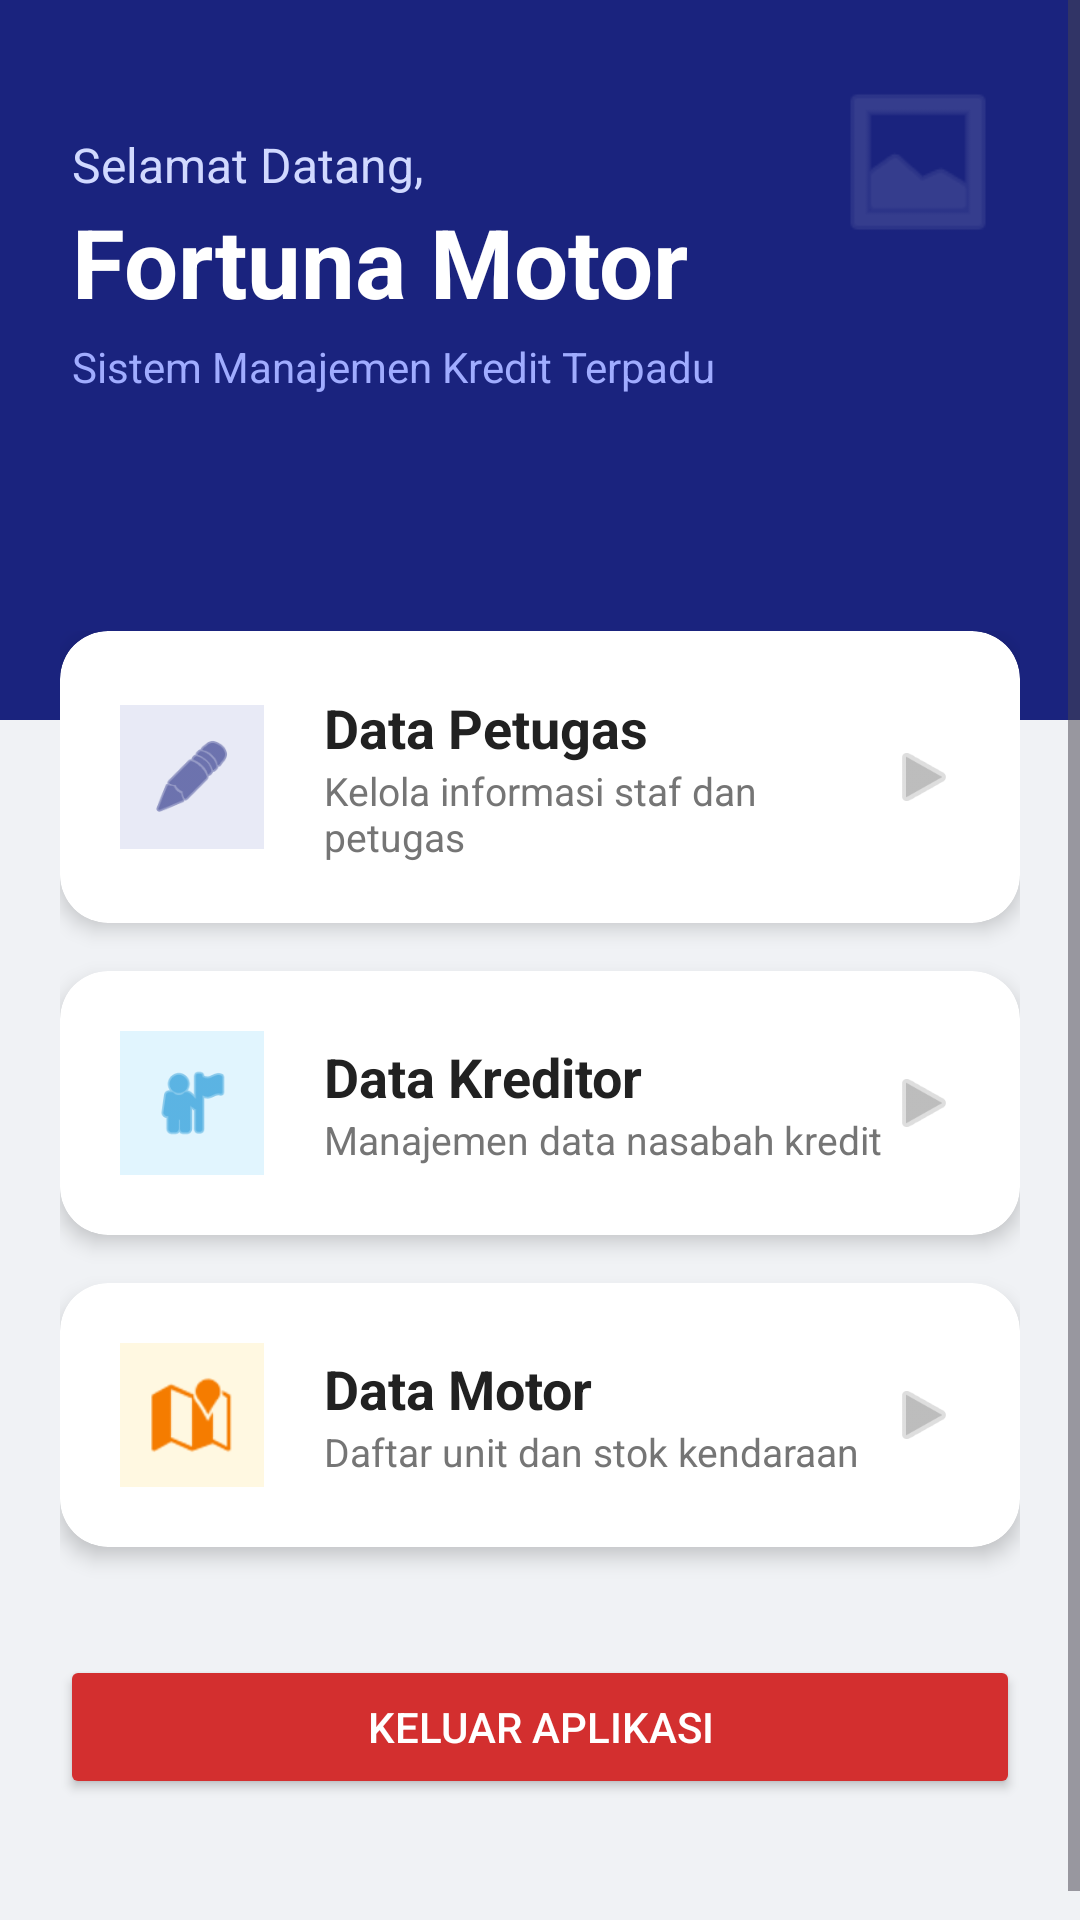

Where to tap for icons on this 1080 x 1920 app screen, as (x,y):
edit: (192,777)
gallery: (918,162)
map: (192,1415)
play: (924,777), (924,1103), (924,1415)
